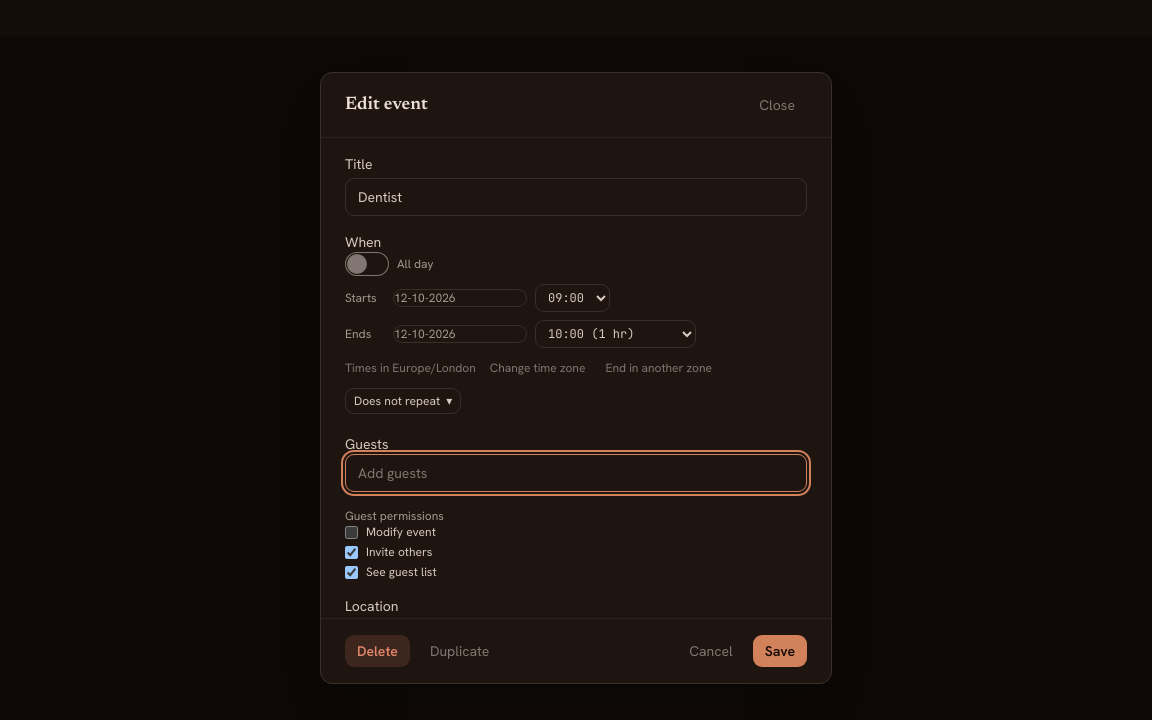
Scenario: EventEditor › Duplicate and Delete ask first when only an address it couldn't read stands
The width and height of the screenshot is (1152, 720).
Check: the field labelled "Title" is shown, box [345,178,807,216]
Type "bob@" into the dropdown labelled "Add guests" at coordinates (576, 473), box [345,454,807,492]
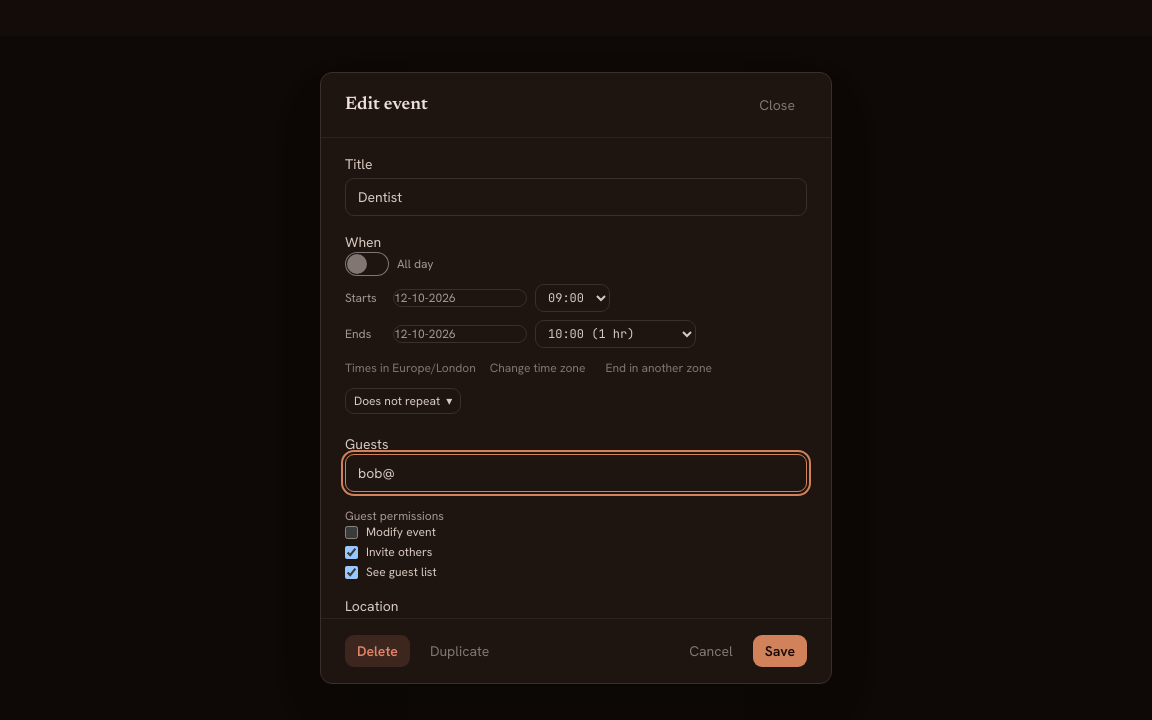
Click the button "Duplicate" at coordinates (460, 651), box [418,635,501,667]
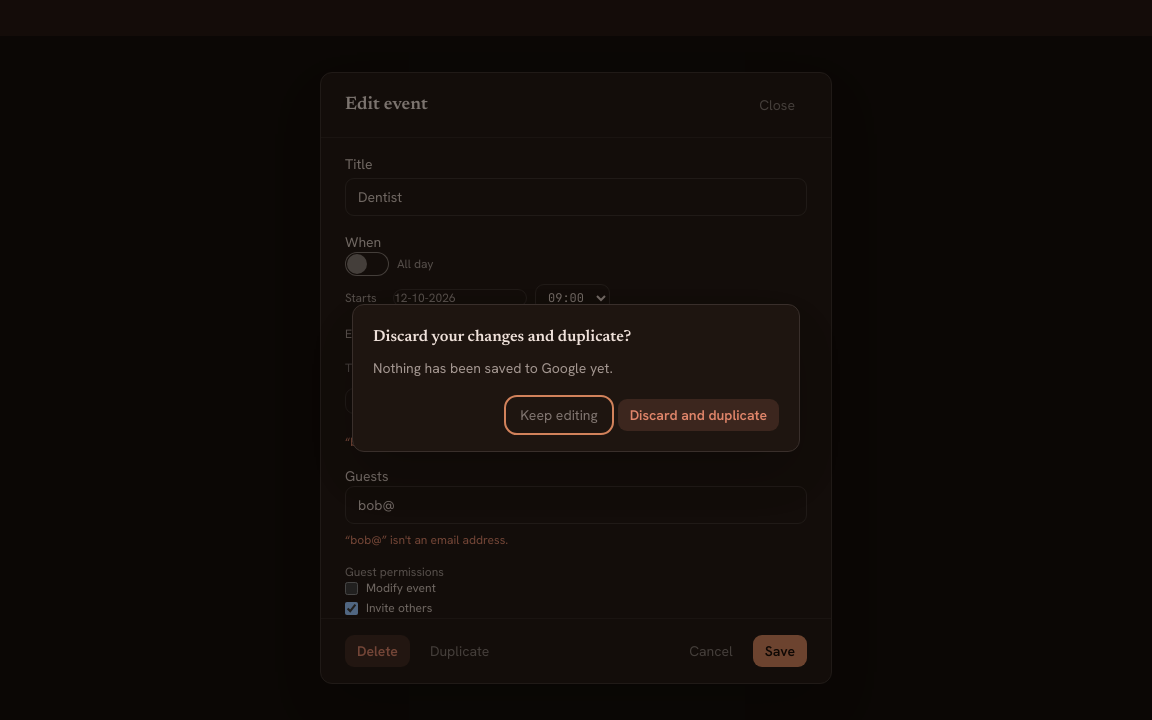
Check: the heading "Discard your changes and duplicate?" is shown, box [373,329,631,345]
Click the button "Keep editing" at coordinates (559, 415), box [508,399,610,431]
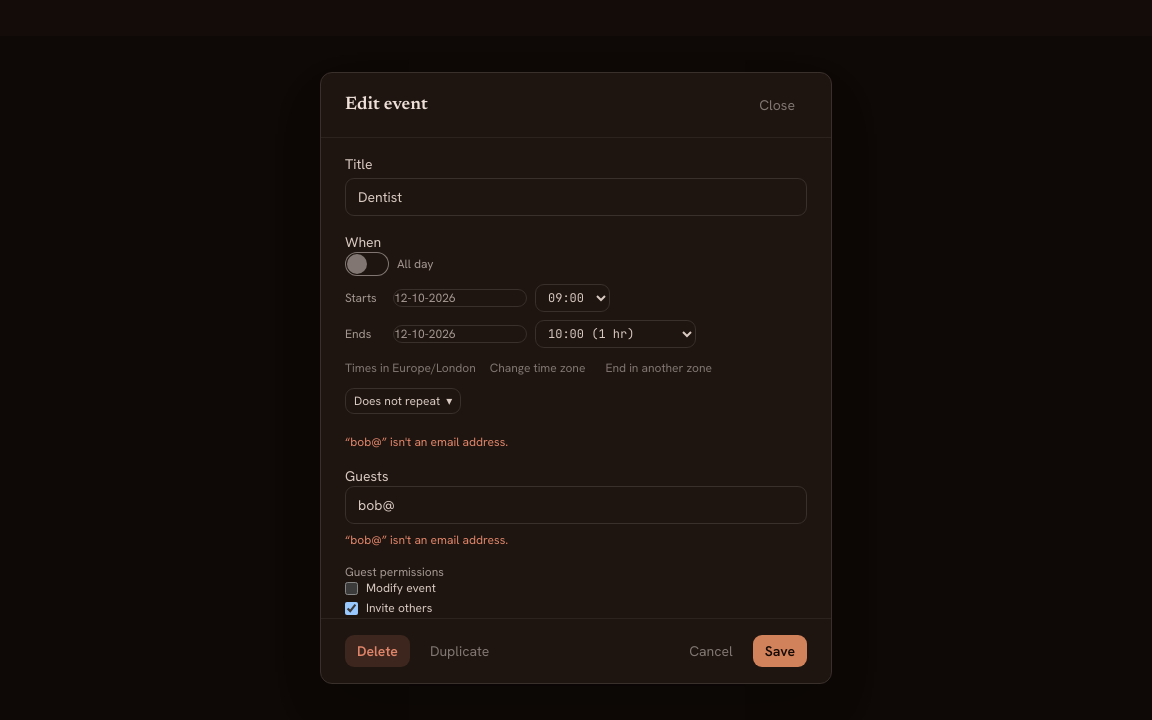
Click the button "Delete" at coordinates (377, 651), box [345,635,410,667]
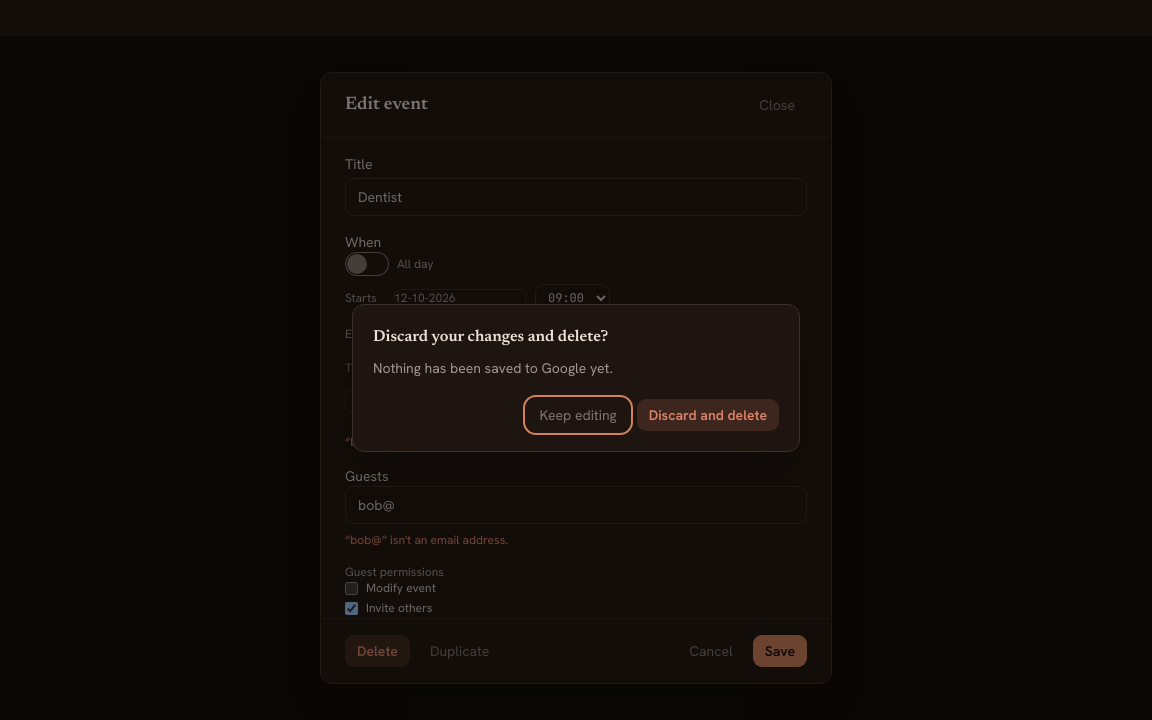
Check: the heading "Discard your changes and delete?" is shown, box [373,329,608,345]
